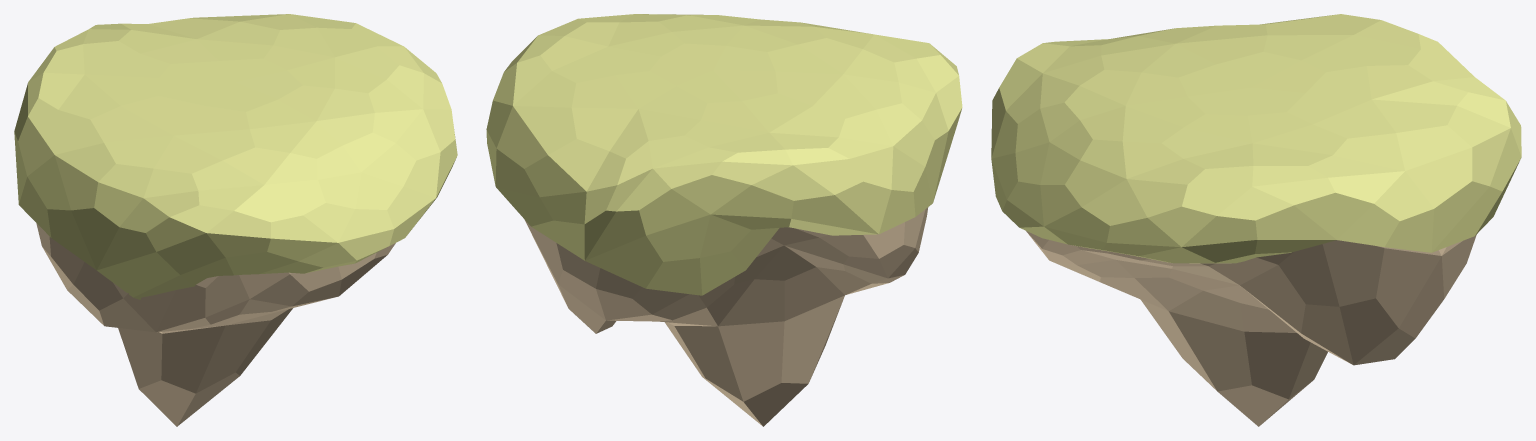
File: floating rock 1.fbx
The picture shows the model from 3 angles, left to right: view 1: azimuth 30°, elevation 25°; view 2: azimuth 150°, elevation 25°; view 3: azimuth 270°, elevation 25°; orthographic projection. The views are drawn at different scales.
Visible parts, largest first — view 1: Icosphere, Icosphere.001; view 2: Icosphere, Icosphere.001; view 3: Icosphere, Icosphere.001.
Part boxes in pixels (x1,y1,x2,y2): Icosphere: (14,14,457,299); Icosphere.001: (36,223,395,426); Icosphere: (486,14,962,295); Icosphere.001: (524,207,928,426); Icosphere: (991,14,1521,263); Icosphere.001: (1026,231,1476,426).
Bounding box in the file's own units: 3012 × 2538 × 3314.
